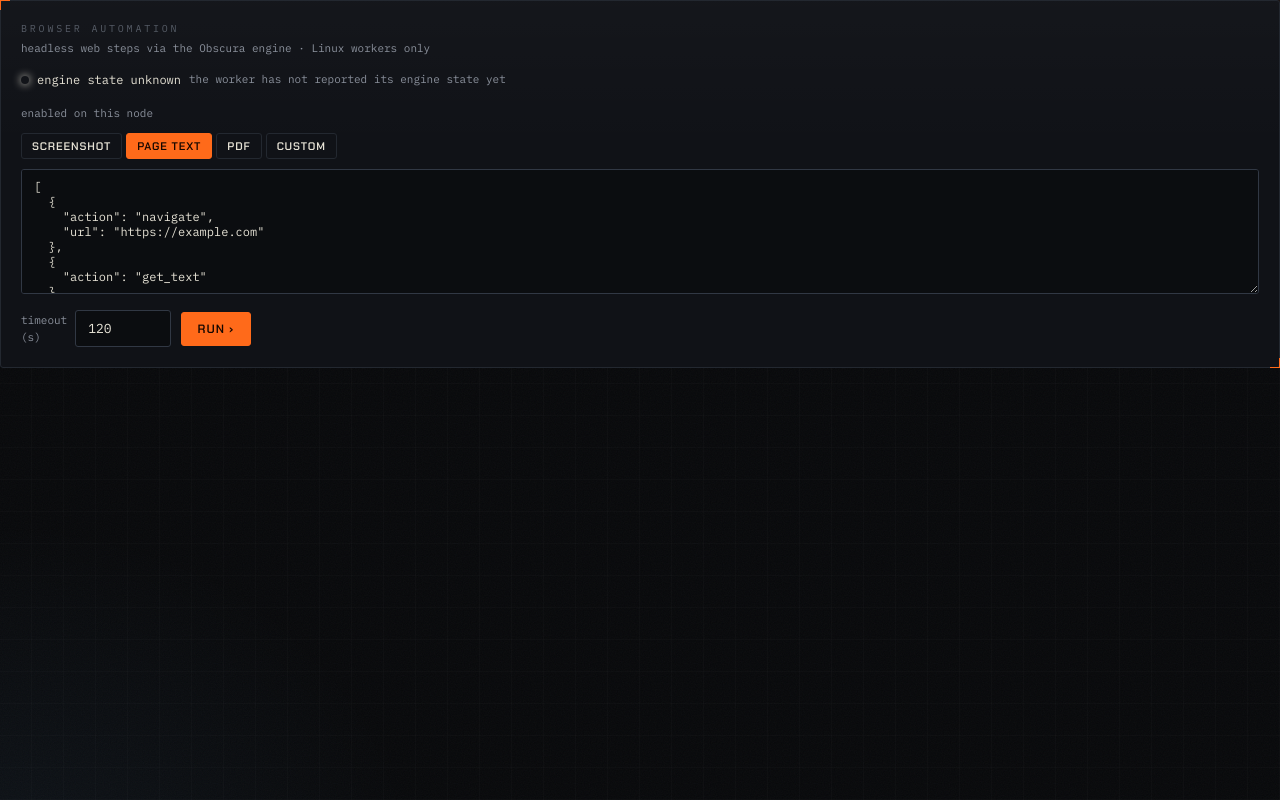
Scenario: BrowserAutomation › queues the run and follows the task
Click the button "Run ›". click: click(216, 328)
box: left=181, top=312, right=251, bottom=346
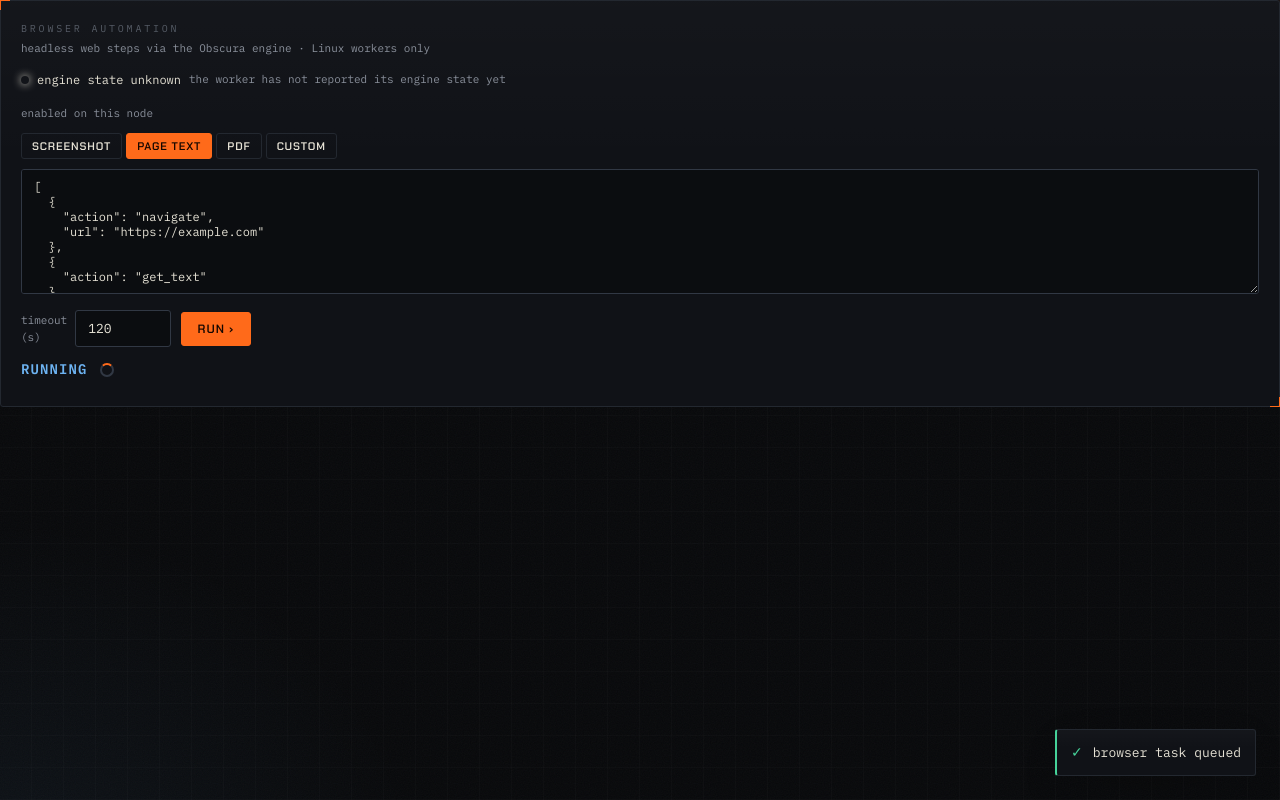
Check: the text "RUNNING" is shown, box left=21, top=359, right=88, bottom=380
